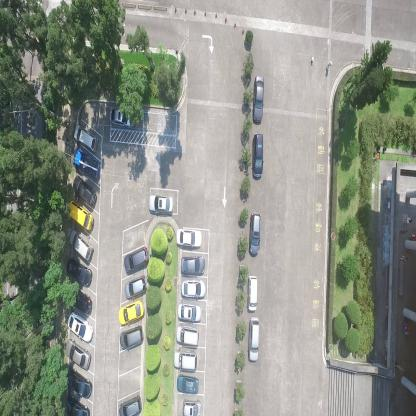car: (65, 200, 94, 233), (63, 338, 92, 370), (69, 227, 94, 263), (67, 311, 94, 343), (72, 147, 99, 179), (71, 174, 97, 207), (66, 370, 93, 400), (123, 244, 149, 274), (118, 298, 144, 326), (66, 257, 92, 285), (119, 324, 145, 351), (73, 124, 98, 151), (123, 274, 148, 300), (251, 76, 264, 124), (249, 316, 262, 364), (69, 286, 92, 313), (251, 133, 264, 179), (108, 106, 136, 127), (118, 392, 143, 415), (176, 227, 202, 249), (148, 193, 174, 215), (63, 394, 90, 415), (248, 213, 261, 256), (176, 325, 200, 348), (180, 279, 206, 300), (173, 349, 197, 371), (180, 254, 204, 275), (177, 302, 202, 322), (246, 274, 258, 314), (175, 373, 199, 393), (182, 397, 202, 415)
